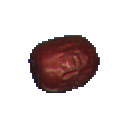gd: (20, 26, 114, 110)
